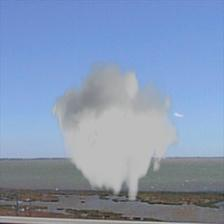fire: (51, 60, 180, 201)
